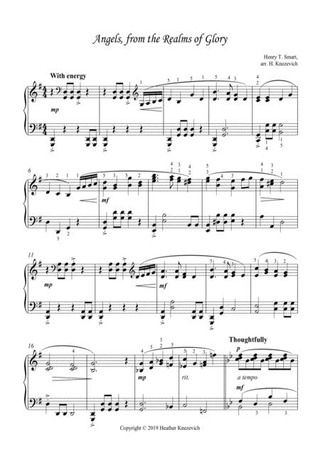Partitura: (18, 29, 301, 437)
